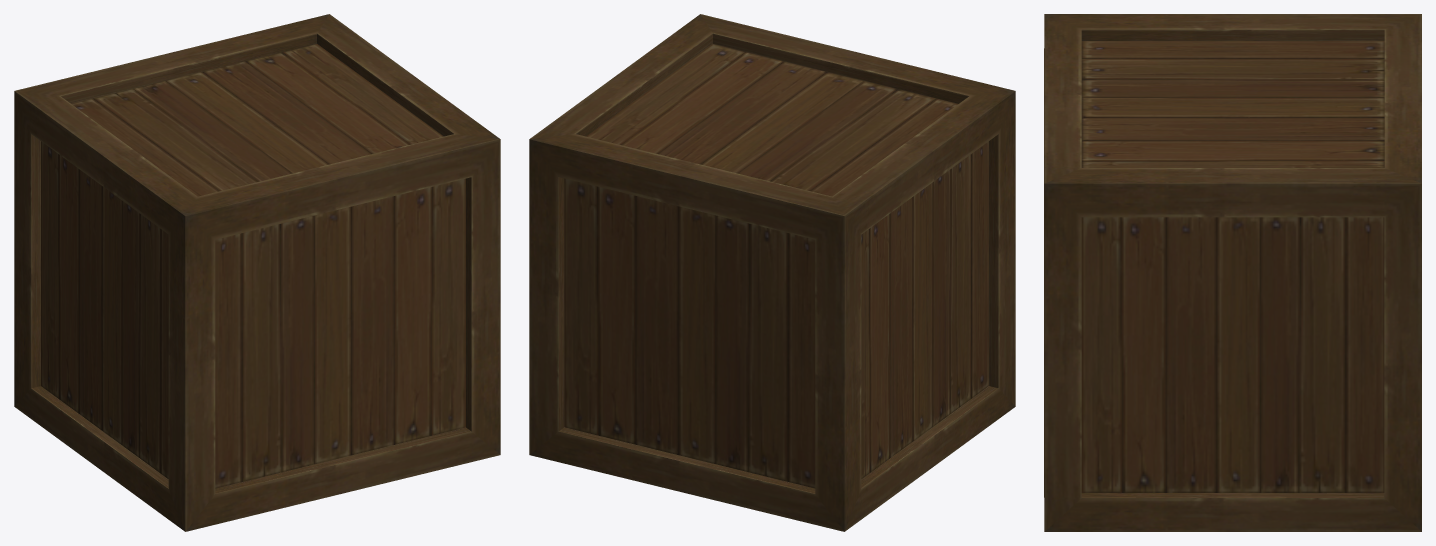
Rendered from ZZL_Item_14.FBX.
3 views of the same model, side by side, from view 1: azimuth 30°, elevation 25°; view 2: azimuth 150°, elevation 25°; view 3: azimuth 270°, elevation 25° (orthographic). The views are drawn at different scales.
Parts seen in each view (by area): view 1: ZZL_Item_14; view 2: ZZL_Item_14; view 3: ZZL_Item_14.
Boxes of the visible parts, bbox=[...] form: ZZL_Item_14: bbox=[14, 14, 500, 531]; ZZL_Item_14: bbox=[529, 14, 1015, 531]; ZZL_Item_14: bbox=[1044, 14, 1421, 531].
Size of the model in its own units: 178 by 171 by 168.
1 material, 1 textured.
